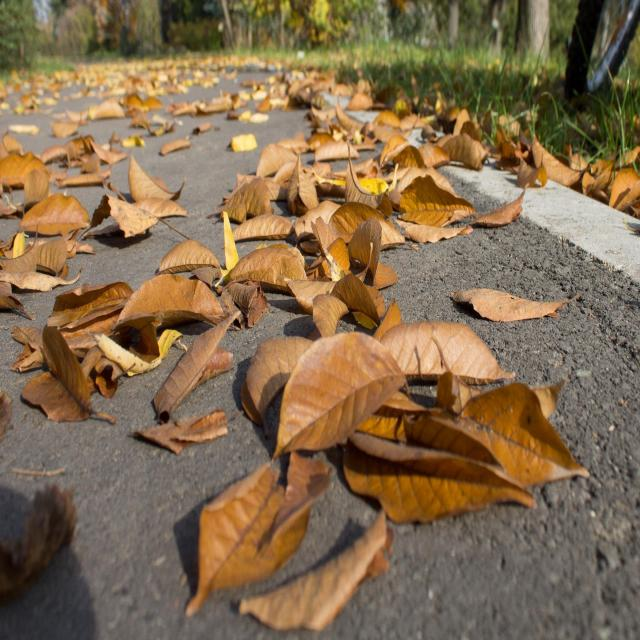Organik: (296, 320, 502, 511), (55, 294, 214, 426), (280, 170, 372, 310), (29, 180, 93, 253)
